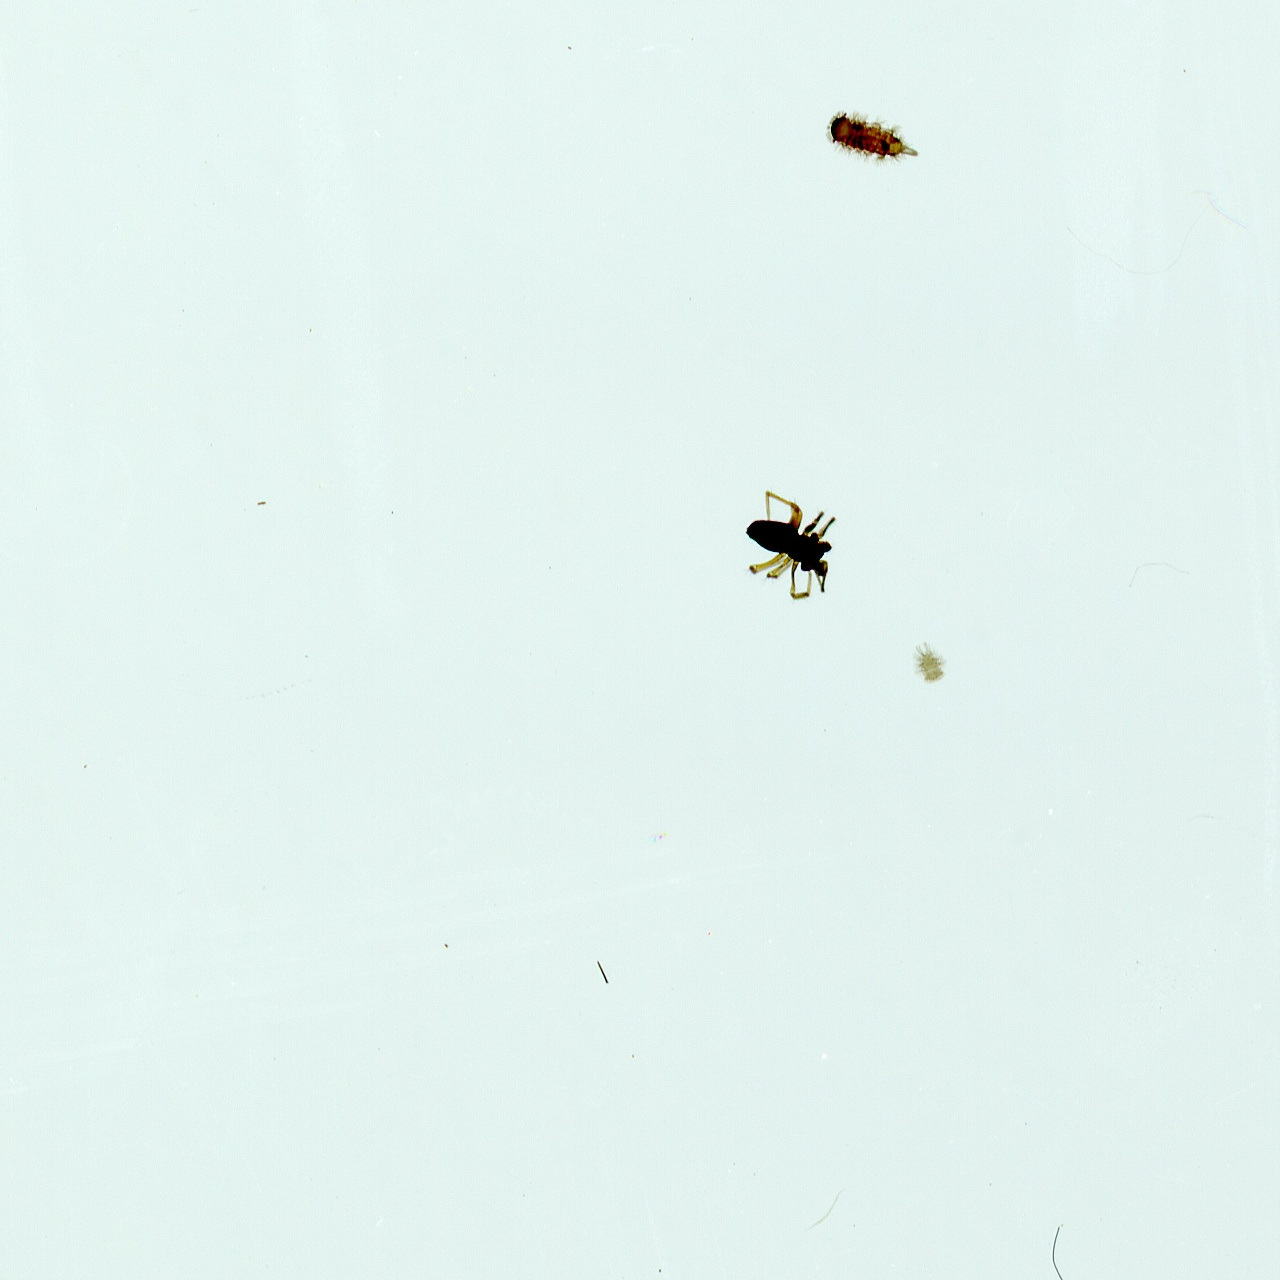arthropod: (737, 490, 840, 602), (826, 109, 920, 171), (901, 644, 954, 685)
